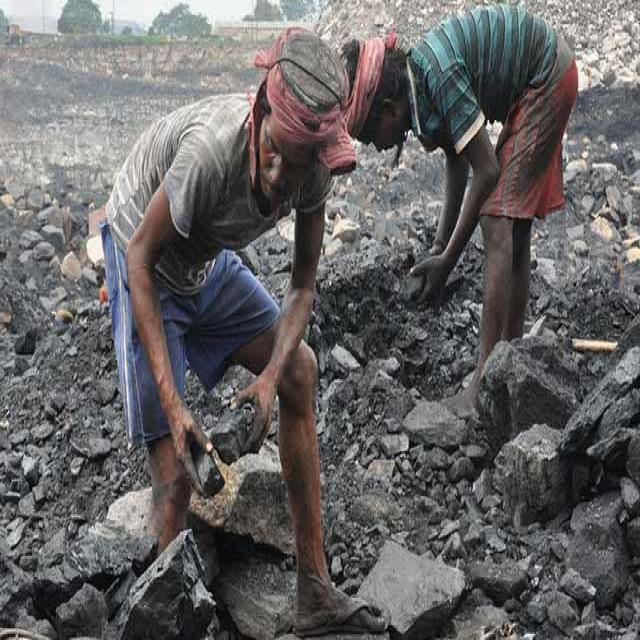person: (69, 21, 377, 640), (340, 13, 593, 411)
